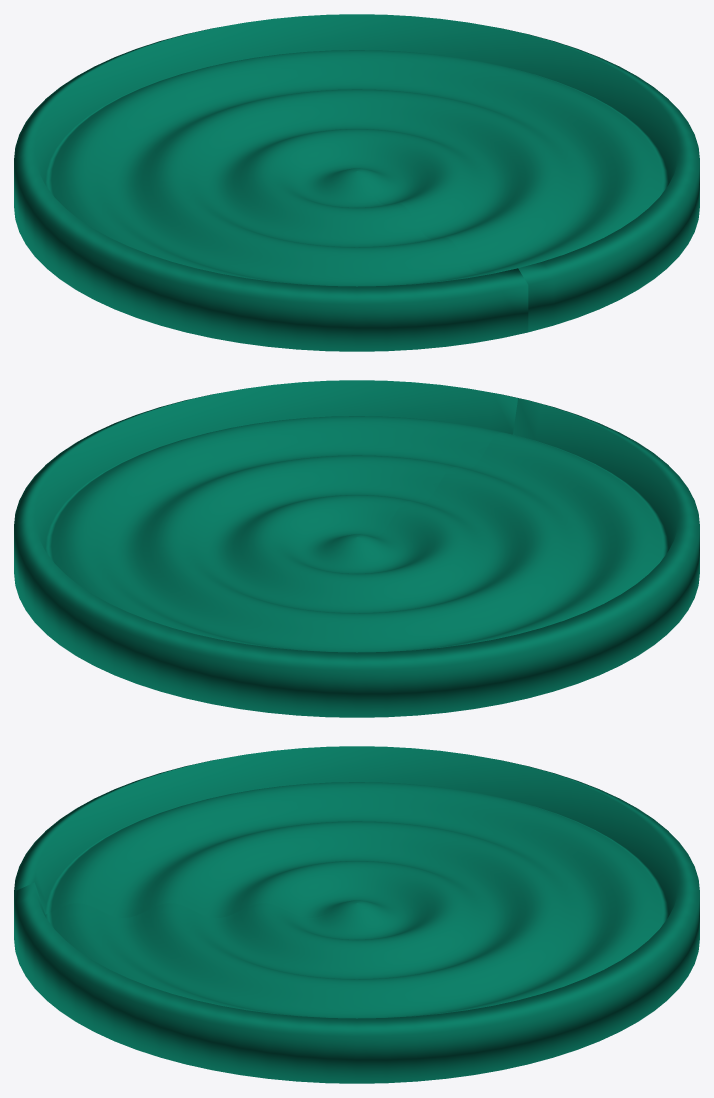
File: posavasos-ondas.glb
3 views of the same model, one above another, from view 1: azimuth 30°, elevation 25°; view 2: azimuth 150°, elevation 25°; view 3: azimuth 270°, elevation 25° (orthographic).
Parts seen in each view (by area): view 1: posavasos-ondas; view 2: posavasos-ondas; view 3: posavasos-ondas.
Part boxes in pixels (box(x1,y1,x2,y2)): posavasos-ondas: box(14, 14, 699, 351); posavasos-ondas: box(14, 380, 699, 717); posavasos-ondas: box(14, 746, 699, 1083).
Bounding box in the file's own units: 0.099 × 0.009 × 0.099.
